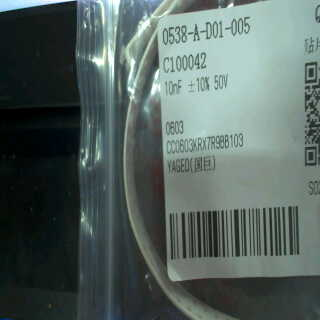10nF: (161, 77, 187, 98)
